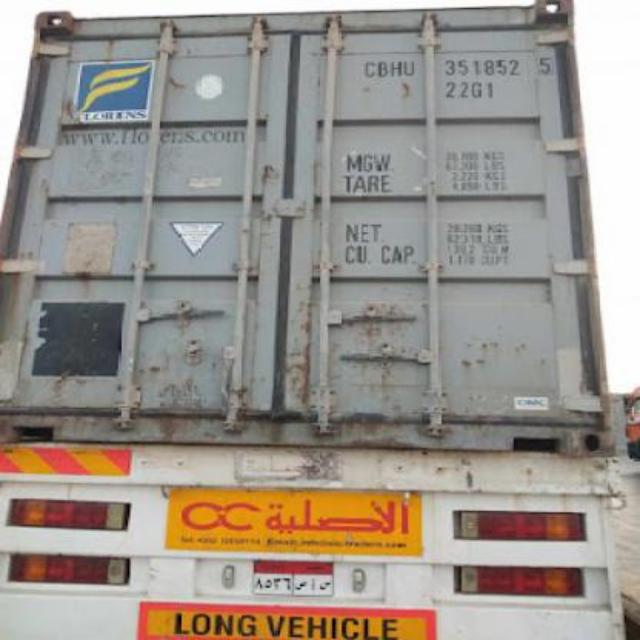1: (470, 54, 482, 78)
2: (508, 52, 522, 80)
3: (442, 53, 456, 77)
5: (538, 52, 556, 78), (496, 54, 508, 80), (456, 54, 469, 76)
8: (482, 52, 496, 78)
B: (376, 55, 388, 81)
C: (360, 52, 376, 78)
H: (388, 52, 402, 82)
U: (402, 54, 416, 82)
